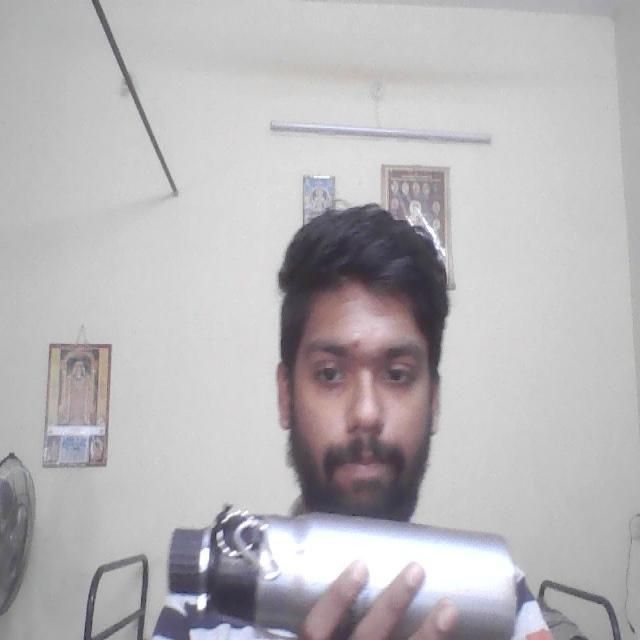Drinking: (168, 494, 535, 640)
